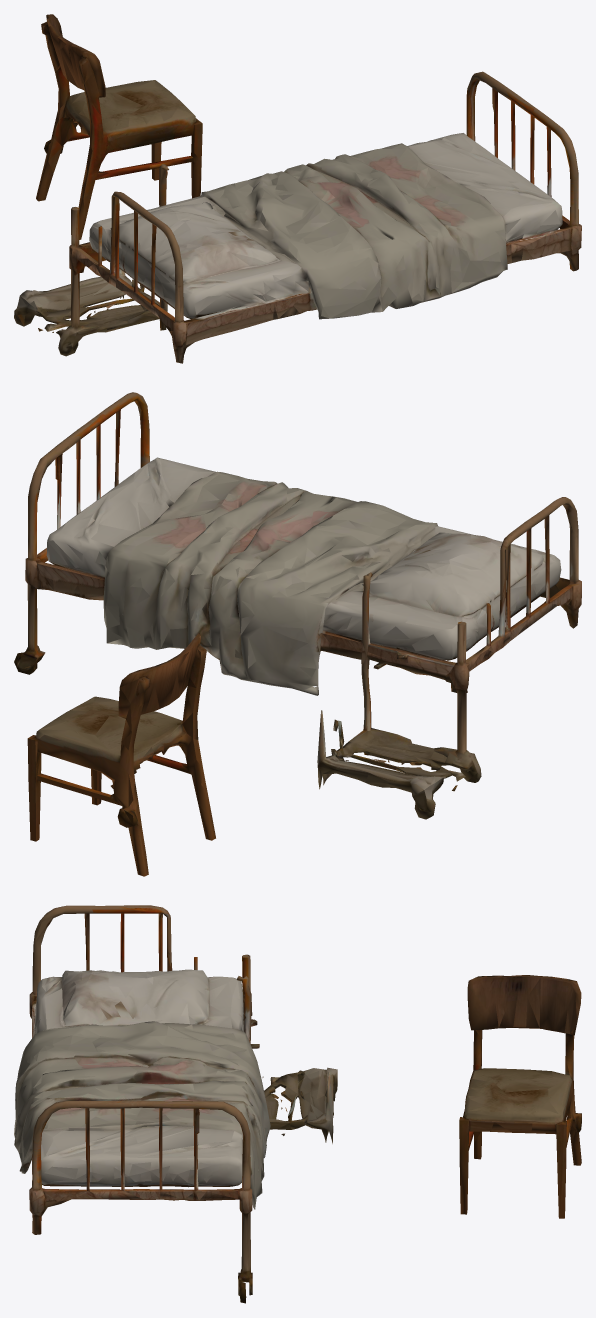
File: cama2.fbx
The picture shows the model from 3 angles, top to bottom: view 1: azimuth 30°, elevation 25°; view 2: azimuth 150°, elevation 25°; view 3: azimuth 270°, elevation 25°; orthographic projection. The views are drawn at different scales.
Visible parts, largest first — view 1: tripo_node_37ce969b; view 2: tripo_node_37ce969b; view 3: tripo_node_37ce969b.
Boxes of the visible parts, <box> form: tripo_node_37ce969b: <box>14,14,581,363</box>; tripo_node_37ce969b: <box>14,392,581,876</box>; tripo_node_37ce969b: <box>14,905,581,1303</box>.
Size of the model in its own units: 88.44 by 38.49 by 99.98.
